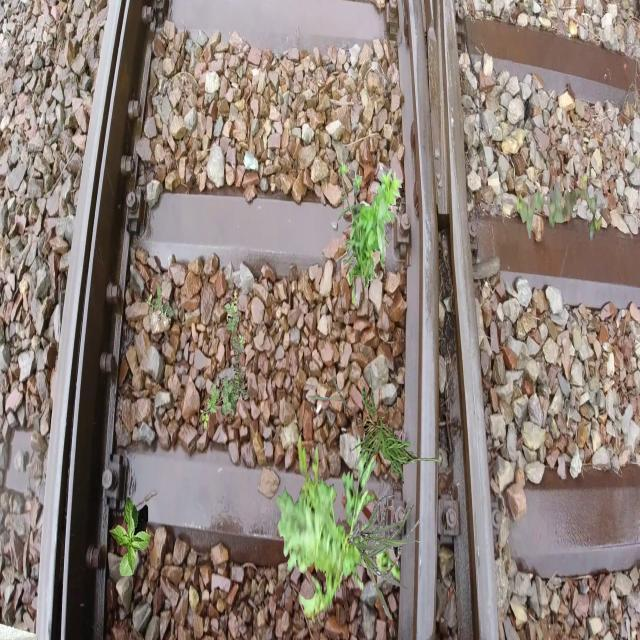Plant: (276, 431, 401, 627), (308, 365, 452, 484), (338, 161, 402, 304), (348, 495, 421, 620), (200, 291, 248, 429), (516, 173, 602, 242), (109, 497, 151, 577), (146, 285, 174, 326), (325, 554, 342, 586)
